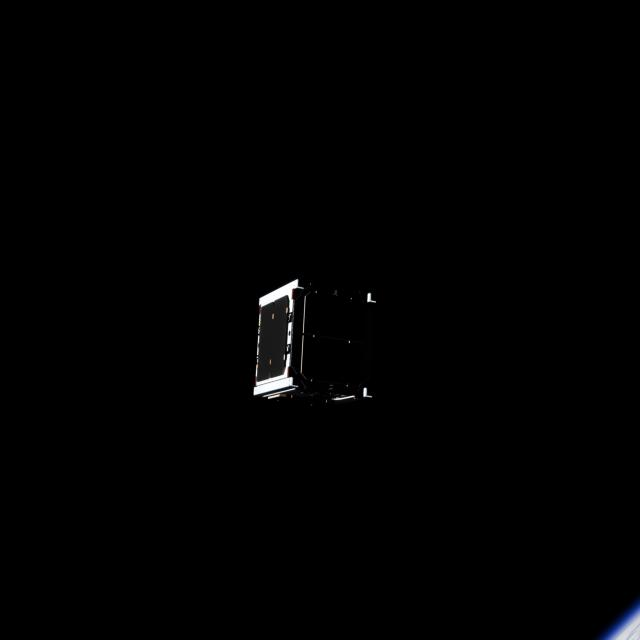satellite: (255, 280, 380, 411)
